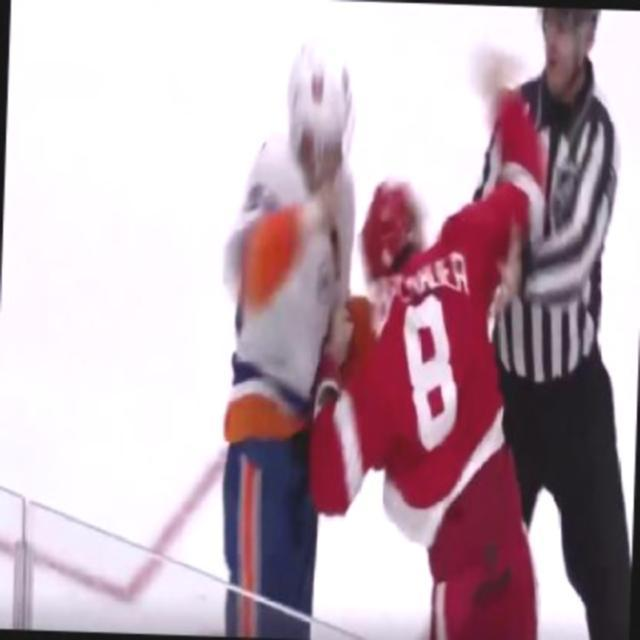fight: (211, 0, 557, 638)
